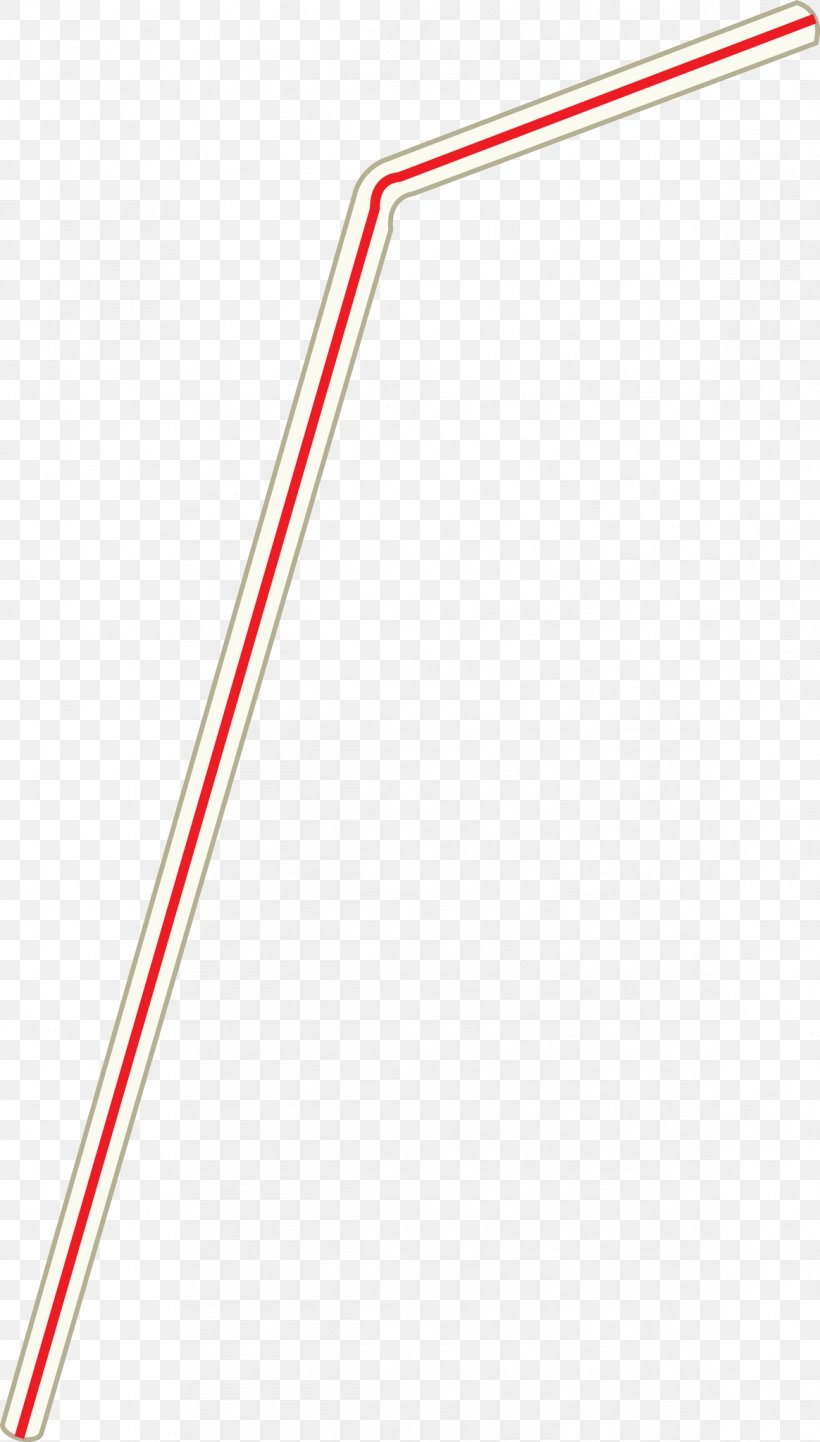Drinking Straw: (1, 1, 820, 1442)
